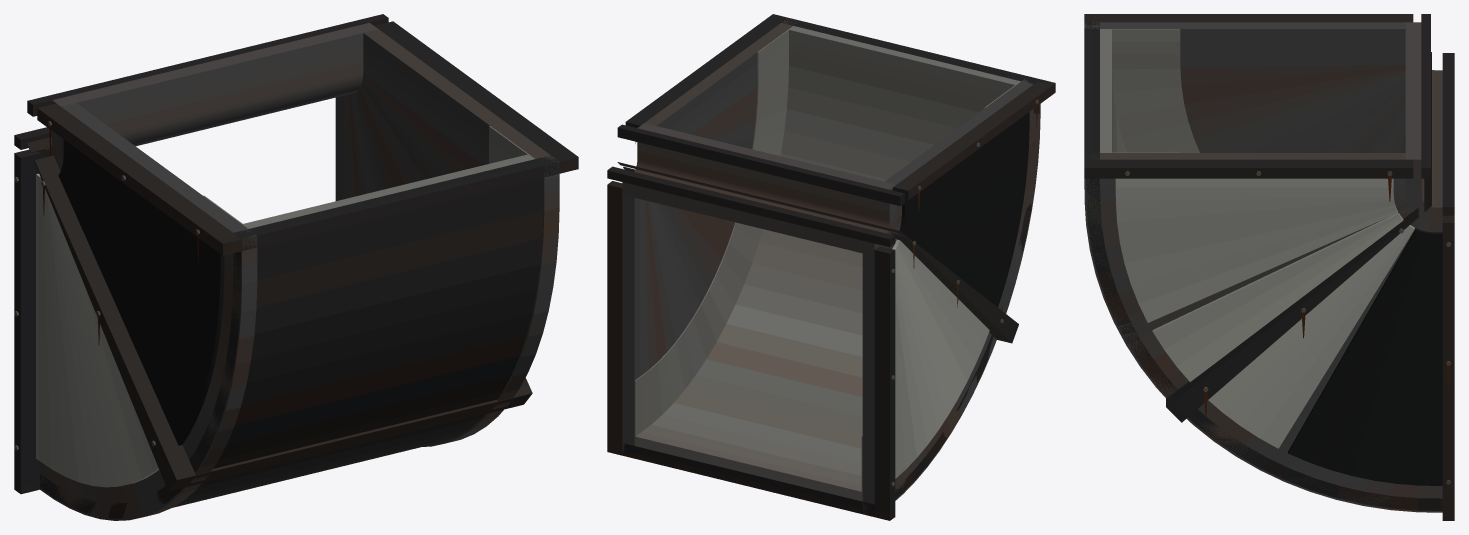
The model's file is chute_v_turn.glb.
The picture shows the model from 3 angles, left to right: view 1: azimuth 30°, elevation 25°; view 2: azimuth 150°, elevation 25°; view 3: azimuth 270°, elevation 25°; orthographic projection. The views are drawn at different scales.
Visible parts, largest first — view 1: Frame; view 2: Frame; view 3: Frame.
Part boxes in pixels (x1,y1,x2,y2): Frame: (14,14,578,520); Frame: (607,14,1055,520); Frame: (1084,14,1454,520).
Size of the model in its own units: 1.88 by 1.99 by 1.89.
